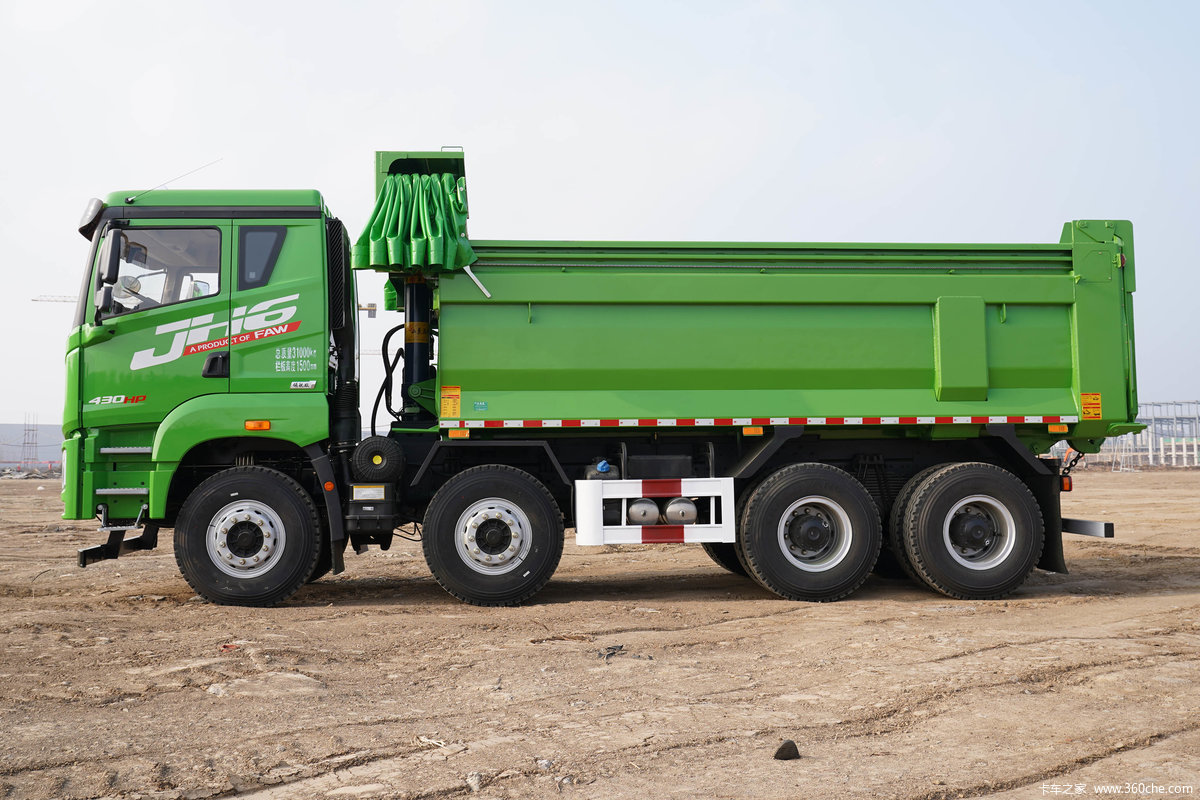卡车: (33, 138, 1187, 603)
